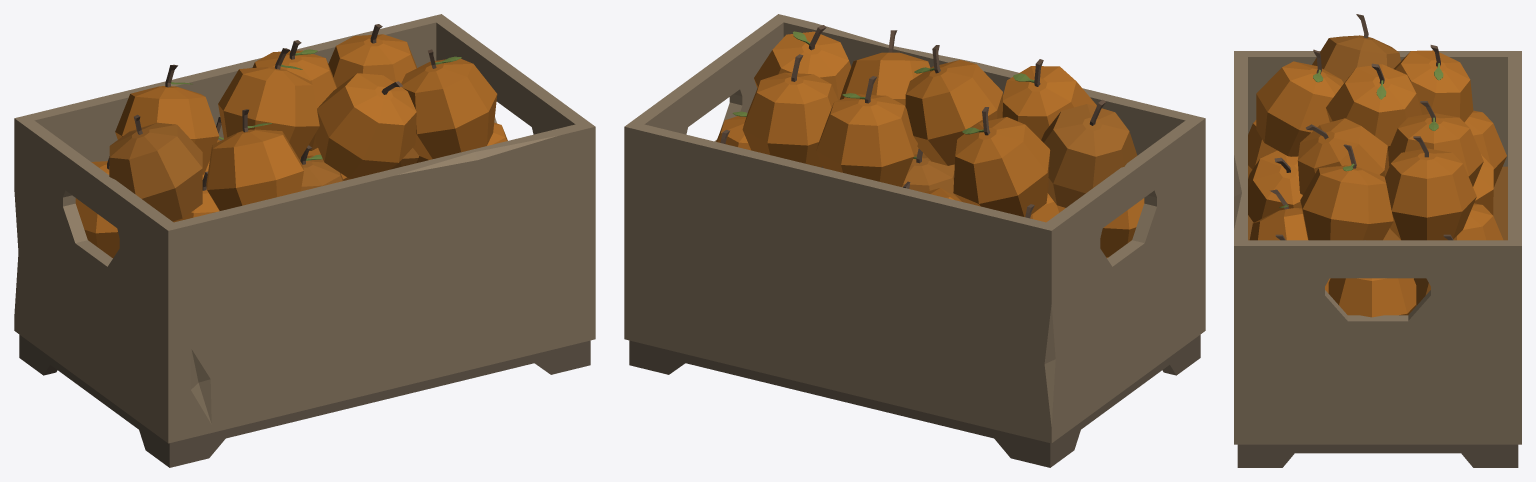
The model's file is SM_Props_Farm_Crate_Filled_Orange.fbx.
The picture shows the model from 3 angles, left to right: view 1: azimuth 30°, elevation 25°; view 2: azimuth 150°, elevation 25°; view 3: azimuth 270°, elevation 25°; orthographic projection. The views are drawn at different scales.
Visible parts, largest first — view 1: SM_Props_Farm_Crate_Filled_Orange; view 2: SM_Props_Farm_Crate_Filled_Orange; view 3: SM_Props_Farm_Crate_Filled_Orange.
Boxes of the visible parts, x1=… form: SM_Props_Farm_Crate_Filled_Orange: x1=14, y1=14, x2=595, y2=467; SM_Props_Farm_Crate_Filled_Orange: x1=624, y1=14, x2=1205, y2=467; SM_Props_Farm_Crate_Filled_Orange: x1=1234, y1=14, x2=1521, y2=467.
Size of the model in its own units: 101 by 72.15 by 63.
